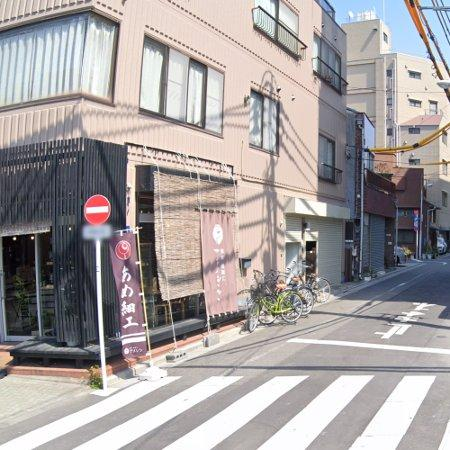crosswalks: (0, 376, 450, 450)
